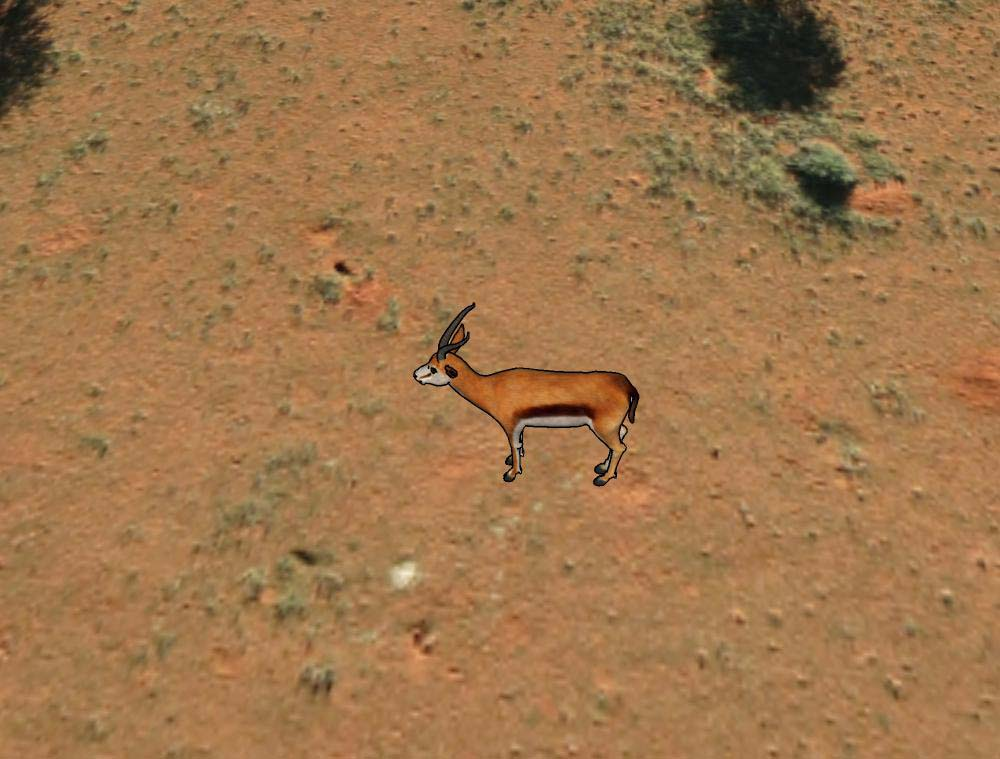springbok: (411, 294, 639, 491)
